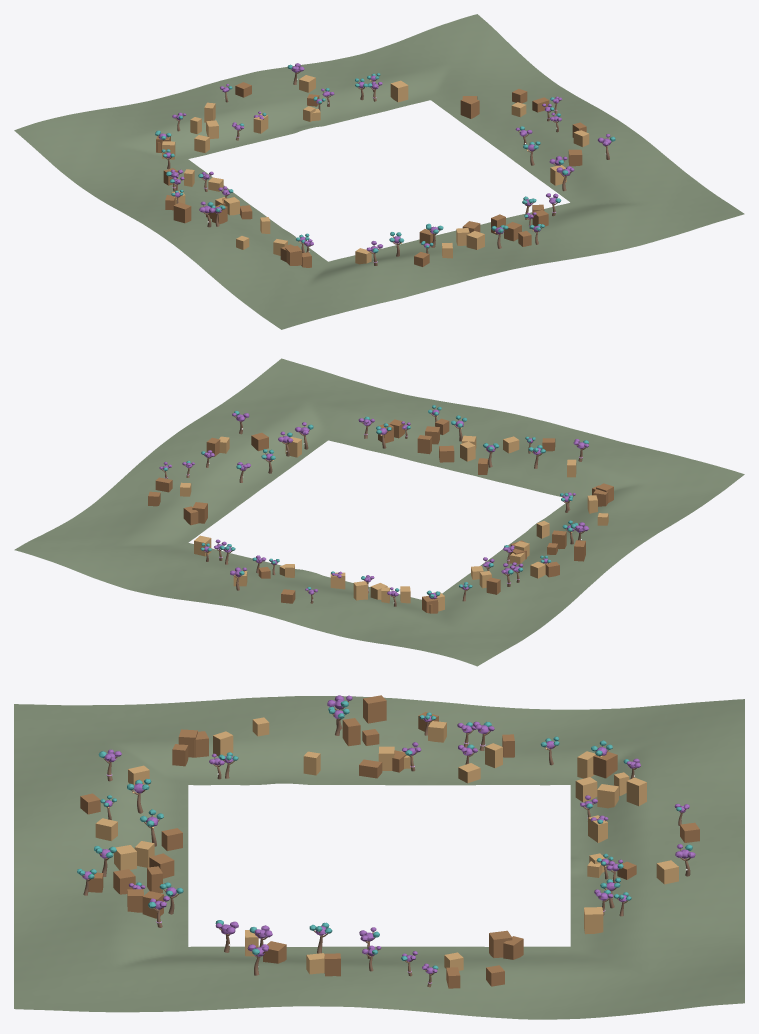
The model's file is HauntedBakery_Background.fbx.
3 renders of one model, top to bottom at view 1: azimuth 30°, elevation 25°; view 2: azimuth 150°, elevation 25°; view 3: azimuth 270°, elevation 25°, orthographic. The views are drawn at different scales.
Visible parts, largest first — view 1: HAU_Terrain_Decor; view 2: HAU_Terrain_Decor; view 3: HAU_Terrain_Decor, HAU_BG_TownHouse_28, HAU_BG_TownHouse_14.
Boxes of the visible parts, box(x1,y1,x2,y2) form: HAU_Terrain_Decor: box(14, 14, 744, 329); HAU_Terrain_Decor: box(14, 358, 744, 666); HAU_Terrain_Decor: box(14, 696, 744, 1019); HAU_BG_TownHouse_28: box(363, 695, 386, 723); HAU_BG_TownHouse_14: box(593, 751, 617, 778).
Bounding box in the file's own units: 650 × 46.94 × 650.
